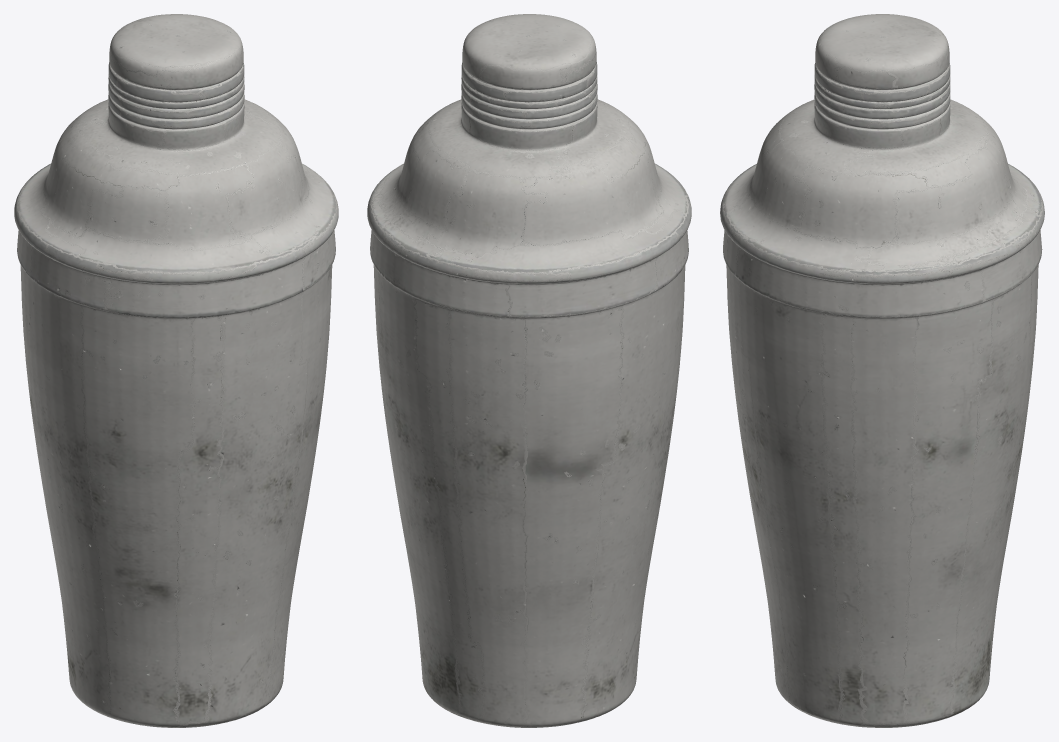
3 renders of one model, left to right at view 1: azimuth 30°, elevation 25°; view 2: azimuth 150°, elevation 25°; view 3: azimuth 270°, elevation 25°, orthographic.
Size of the model in its own units: 0.8741 by 1.93 by 0.874.
Materials: 1 (1 with a texture image).
